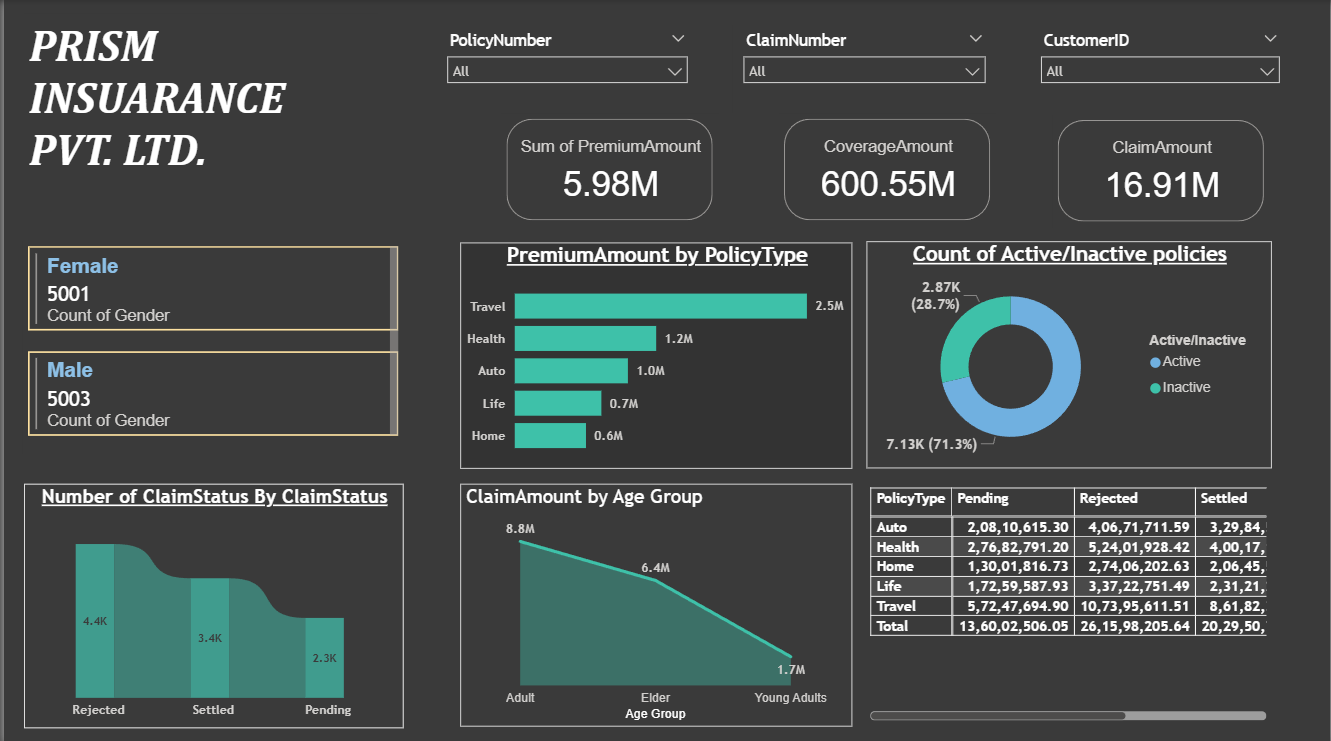

The page's visual inventory and layout, read from the dashboard file:
{"tool":"powerbi","page":{"name":"Page 1","canvas":[1280,720],"ordinal":0},"visuals":[{"type":"slicer","fields":{"Values":["InsuranceData.PolicyNumber"]},"box":[417.2,24.7,252.5,85.1],"z":0},{"type":"slicer","fields":{"Values":["InsuranceData.ClaimNumber"]},"box":[703.9,24.7,253.9,85.1],"z":1000},{"type":"slicer","fields":{"Values":["InsuranceData.CustomerID"]},"box":[990.7,24.7,251.1,85.1],"z":2000},{"type":"textbox","box":[19.2,13.7,341.7,193.5],"z":3000},{"type":"cardVisual","fields":{"Data":["Sum(InsuranceData.PremiumAmount)"]},"box":[480.3,109.8,209.9,108.4],"z":4000},{"type":"cardVisual","fields":{"Data":["Sum(InsuranceData.CoverageAmount)"]},"box":[747.9,109.8,209.9,108.4],"z":5000},{"type":"cardVisual","fields":{"Data":["Sum(InsuranceData.ClaimAmount)"]},"box":[1012.7,111.1,209.9,108.4],"z":6000},{"type":"multiRowCard","fields":{"Values":["InsuranceData.Gender","CountNonNull(InsuranceData.Gender)"]},"box":[17.8,233.3,367.8,204.5],"z":7000},{"type":"ribbonChart","title":"Number of ClaimStatus By ClaimStatus","fields":{"Category":["InsuranceData.ClaimStatus"],"Y":["CountNonNull(InsuranceData.ClaimStatus)"]},"box":[19.2,466.6,366.4,236],"z":8000},{"type":"barChart","title":"PremiumAmount by PolicyType","fields":{"Category":["InsuranceData.PolicyType"],"Y":["Sum(InsuranceData.PremiumAmount)"]},"box":[440.5,234.6,378.7,218.2],"z":9000},{"type":"lineChart","title":"ClaimAmount by Age Group","fields":{"Category":["InsuranceData.Age Group"],"Y":["Sum(InsuranceData.ClaimAmount)"]},"box":[440.5,466.6,378.7,234.6],"z":10000},{"type":"donutChart","title":"Count of Active/Inactive policies","fields":{"Category":["InsuranceData.Active/Inactive "],"Y":["CountNonNull(InsuranceData.Active/Inactive )"]},"box":[832.9,233.3,391.1,219.6],"z":11000},{"type":"pivotTable","fields":{"Values":["Sum(InsuranceData.CoverageAmount)"],"Columns":["InsuranceData.ClaimStatus"],"Rows":["InsuranceData.PolicyType"]},"box":[831.6,465.2,392.5,234.6],"z":12000}]}

Visuals, with their boxes in screenshot pixels (x1, y1, x2, y2), scaled from the page's 1280x720 canvas onto the 1331x741 screenshot:
slicer - InsuranceData.PolicyNumber: select_region(434, 25, 696, 113)
slicer - InsuranceData.ClaimNumber: select_region(732, 25, 996, 113)
slicer - InsuranceData.CustomerID: select_region(1030, 25, 1291, 113)
textbox: select_region(20, 14, 375, 213)
cardVisual - Sum(InsuranceData.PremiumAmount): select_region(499, 113, 718, 225)
cardVisual - Sum(InsuranceData.CoverageAmount): select_region(778, 113, 996, 225)
cardVisual - Sum(InsuranceData.ClaimAmount): select_region(1053, 114, 1271, 226)
multiRowCard - InsuranceData.Gender x CountNonNull(InsuranceData.Gender): select_region(19, 240, 401, 451)
"Number of ClaimStatus By ClaimStatus" ribbonChart: select_region(20, 480, 401, 723)
"PremiumAmount by PolicyType" barChart: select_region(458, 241, 852, 466)
"ClaimAmount by Age Group" lineChart: select_region(458, 480, 852, 722)
"Count of Active/Inactive policies" donutChart: select_region(866, 240, 1273, 466)
pivotTable - Sum(InsuranceData.CoverageAmount) x InsuranceData.ClaimStatus: select_region(865, 479, 1273, 720)
